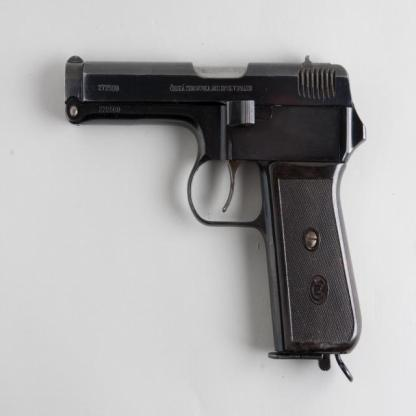weapon: (62, 53, 369, 384)
